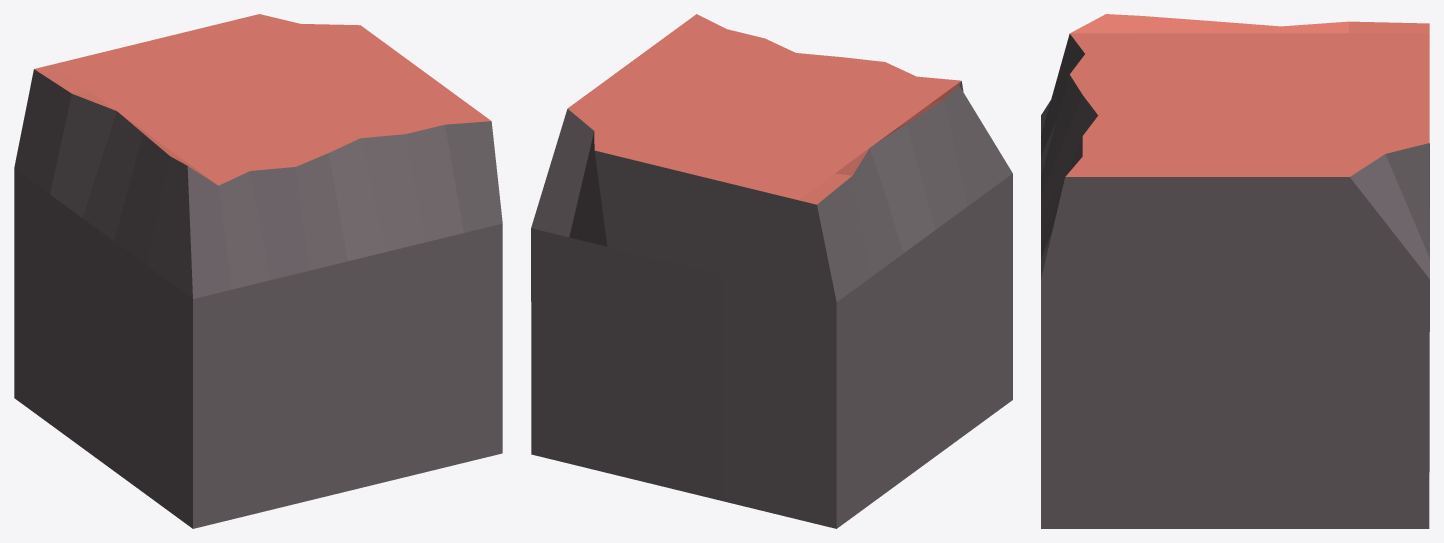
File: corner 3.fbx
The picture shows the model from 3 angles, left to right: view 1: azimuth 30°, elevation 25°; view 2: azimuth 150°, elevation 25°; view 3: azimuth 270°, elevation 25°; orthographic projection. The views are drawn at different scales.
Parts seen in each view (by area): view 1: corner 23; view 2: corner 23; view 3: corner 23.
Boxes of the visible parts, bbox=[...] form: corner 23: bbox=[14, 14, 502, 528]; corner 23: bbox=[531, 14, 1012, 528]; corner 23: bbox=[1041, 14, 1429, 528].
Bounding box in the file's own units: 200 × 207 × 200.
